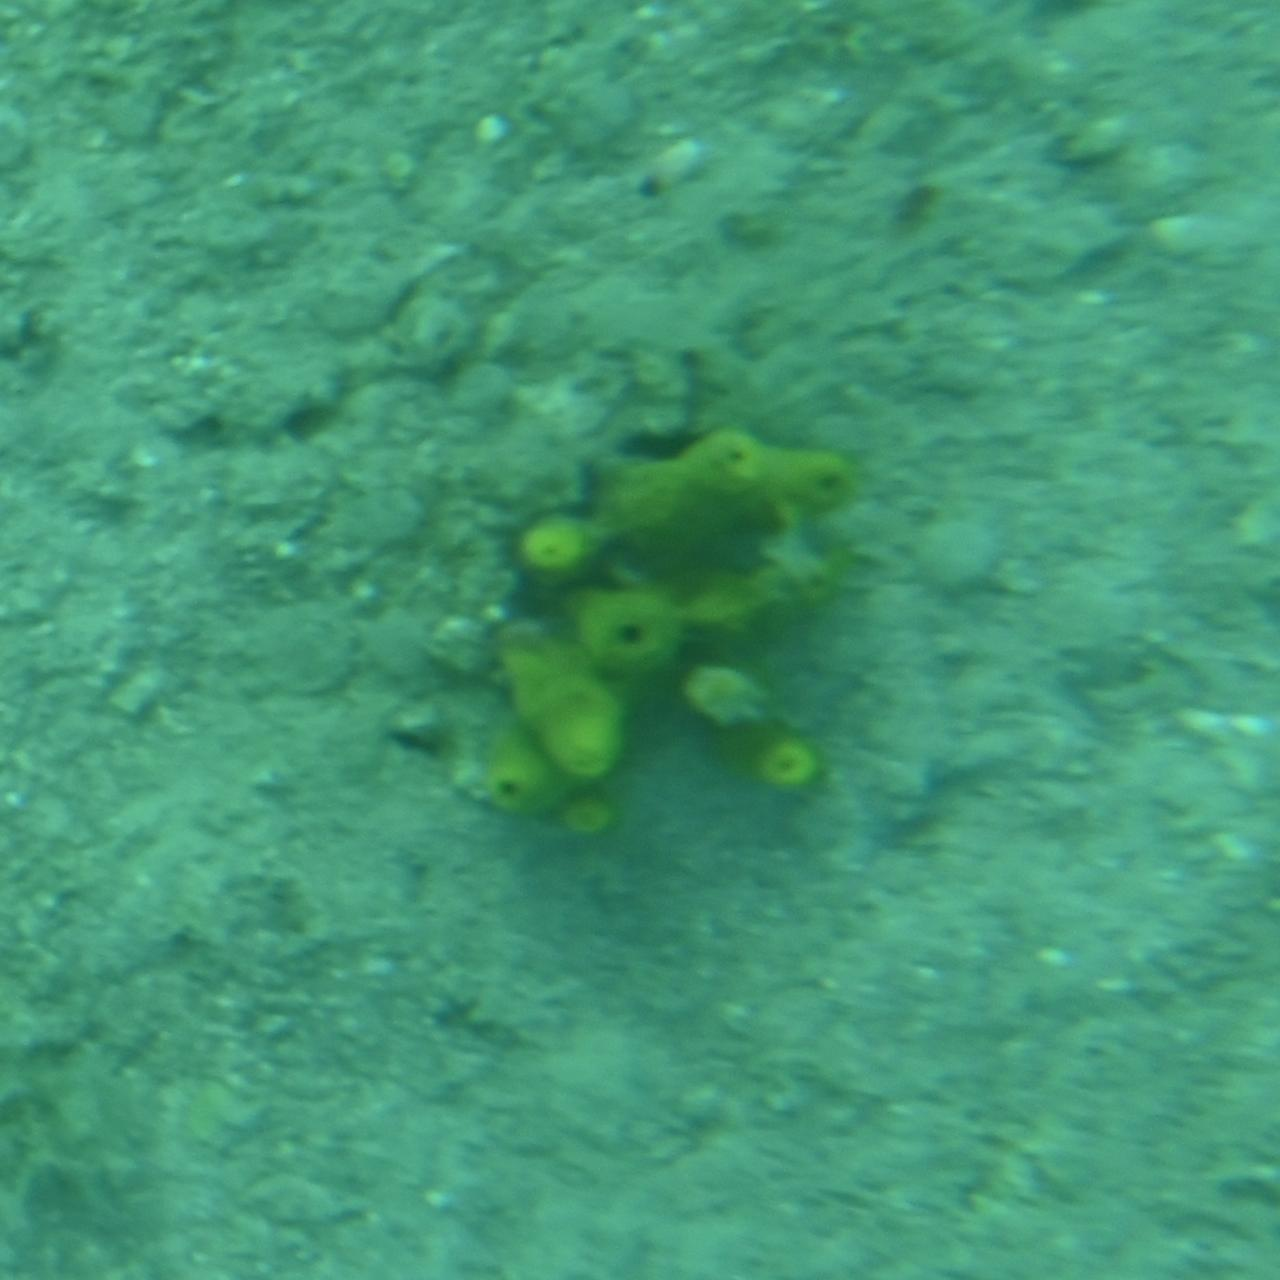Aplysina aerophoba: (414, 403, 866, 877)
